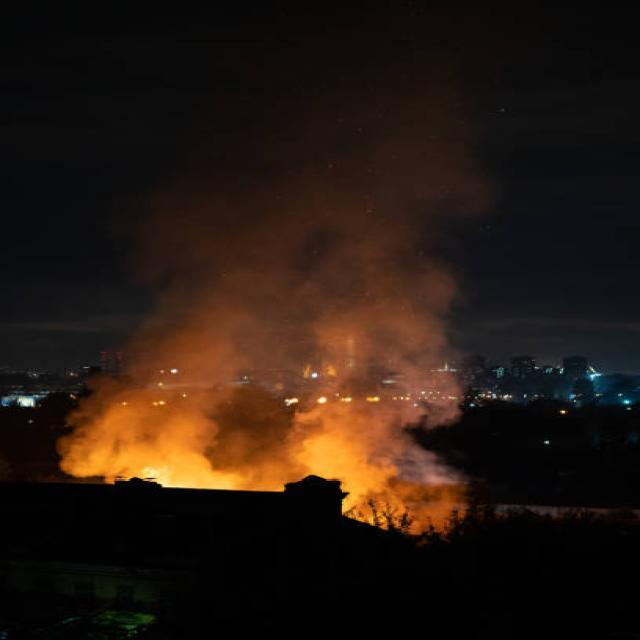Smoke: (159, 163, 462, 384), (61, 339, 457, 487)
